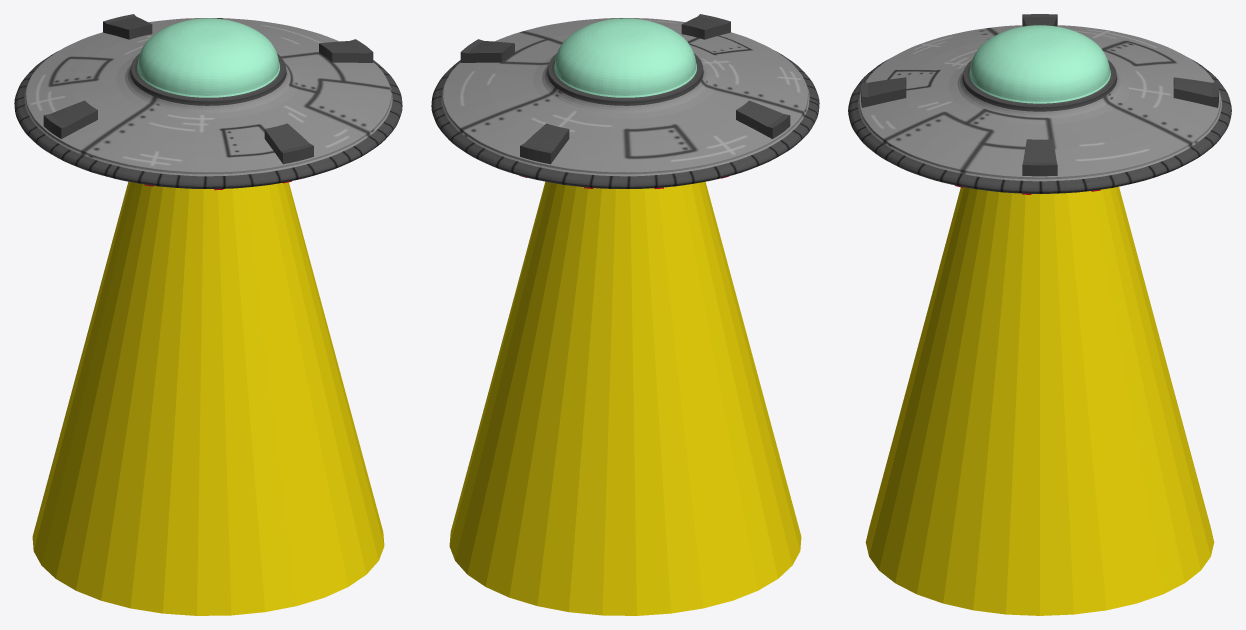
The model's file is ufo_abductor.obj.
The picture shows the model from 3 angles, left to right: view 1: azimuth 30°, elevation 25°; view 2: azimuth 150°, elevation 25°; view 3: azimuth 270°, elevation 25°; orthographic projection.
Visible parts, largest first — view 1: Cylinder.001_Cylinder, Cylinder_Cylinder.001; view 2: Cylinder.001_Cylinder, Cylinder_Cylinder.001; view 3: Cylinder.001_Cylinder, Cylinder_Cylinder.001.
Boxes of the visible parts, box(x1,y1,x2,y2) form: Cylinder.001_Cylinder: box(32, 181, 384, 615); Cylinder_Cylinder.001: box(14, 14, 402, 190); Cylinder.001_Cylinder: box(449, 181, 801, 615); Cylinder_Cylinder.001: box(431, 14, 819, 188); Cylinder.001_Cylinder: box(865, 186, 1214, 615); Cylinder_Cylinder.001: box(848, 14, 1231, 194).
Bounding box in the file's own units: 8.09 × 11.73 × 8.09.
Materials: 2 (2 with a texture image).
